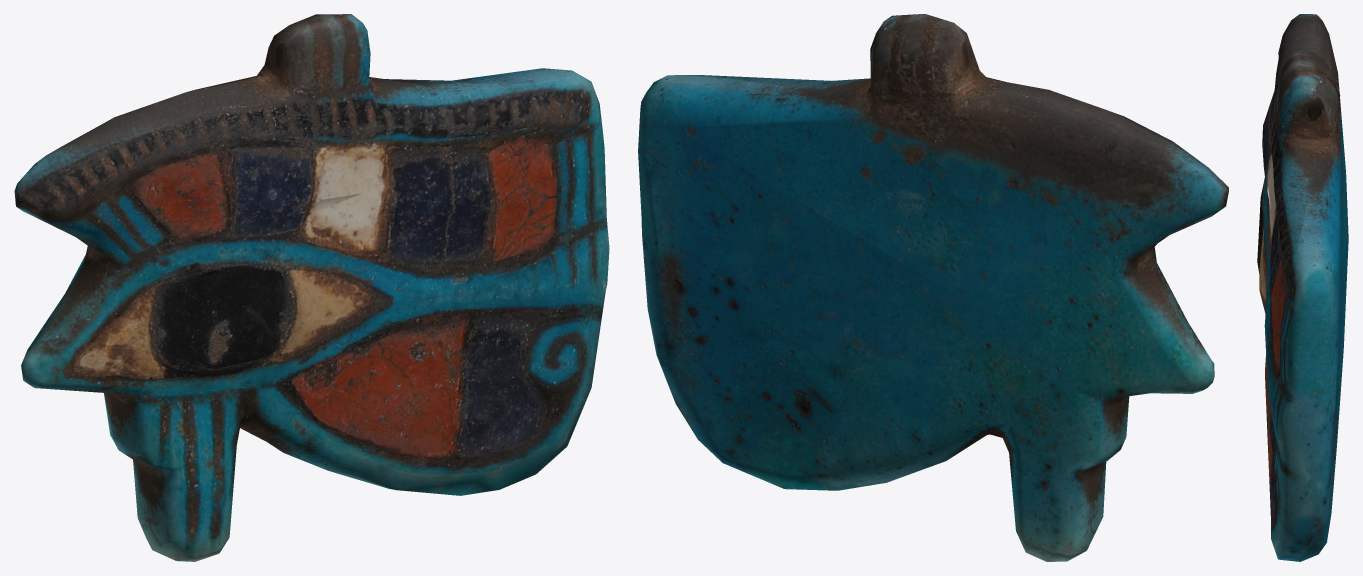
File: RaPuzzleSlized.fbx
The picture shows the model from 3 angles, left to right: view 1: azimuth 30°, elevation 25°; view 2: azimuth 150°, elevation 25°; view 3: azimuth 270°, elevation 25°; orthographic projection. The views are drawn at different scales.
Parts seen in each view (by area): view 1: polySurface6, polySurface5, polySurface4, polySurface2; view 2: polySurface5, polySurface6, polySurface4, polySurface2; view 3: polySurface5, polySurface6, polySurface4.
Boxes of the visible parts, x1,y1,x2,y2 form: polySurface6: (21,131,609,406); polySurface5: (14,14,604,262); polySurface4: (222,291,605,495); polySurface2: (104,393,241,561); polySurface5: (638,14,1228,259); polySurface6: (638,129,1214,410); polySurface4: (647,277,1069,490); polySurface2: (1002,388,1129,561); polySurface5: (1262,14,1345,337); polySurface6: (1257,136,1348,471); polySurface4: (1265,242,1348,561).
Bounding box in the file's own units: 6.72 × 5.55 × 1.07.
